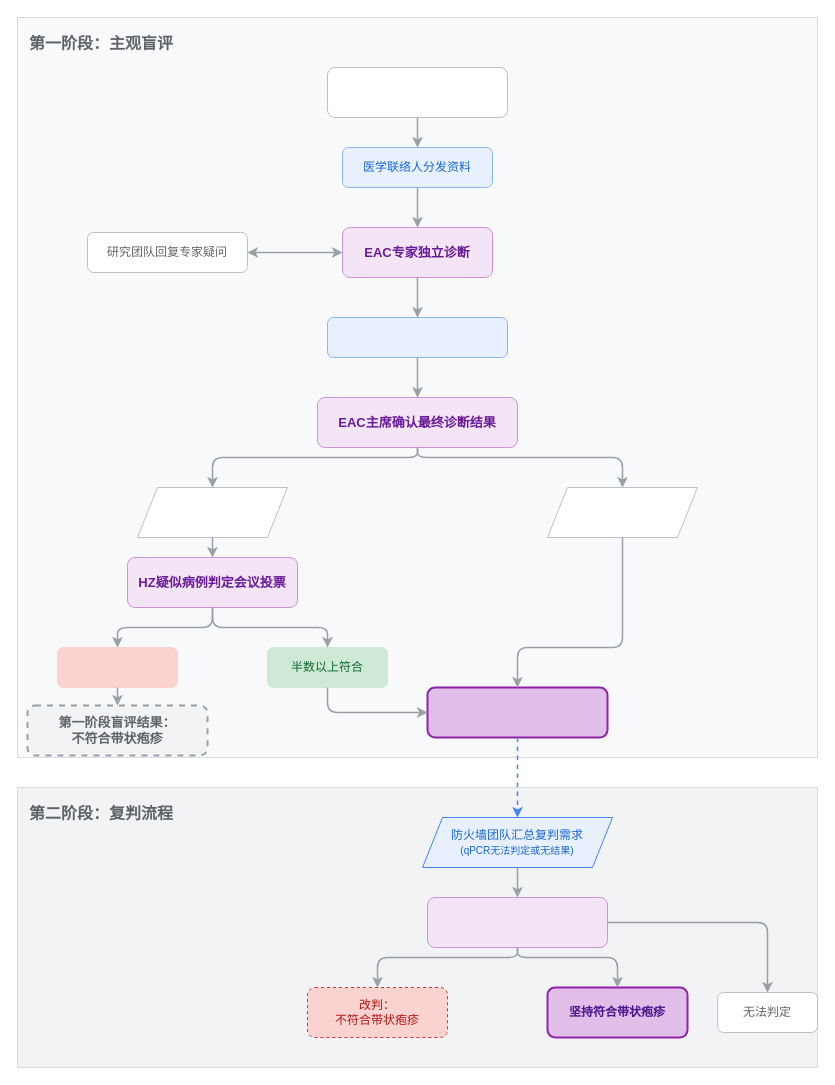
The diagram is 835 pixels wide and 1085 high, and some of its shapes have lost their labels. Each missing label, with the centre of its shape:
EAC 复判 （与初次判定流程基本一致）: pixel 517 922
一致且 符合HZ诊断: pixel 622 512
不一致或 不符合HZ诊断: pixel 212 512
医学联络人汇总独立诊断结果: pixel 417 337
半数以上不符合: pixel 117 667
疑似病例调查表及必要资料 （完全除外 qPCR 结果）: pixel 417 92
第一阶段盲评结果： 判为带状疱疹: pixel 517 712
